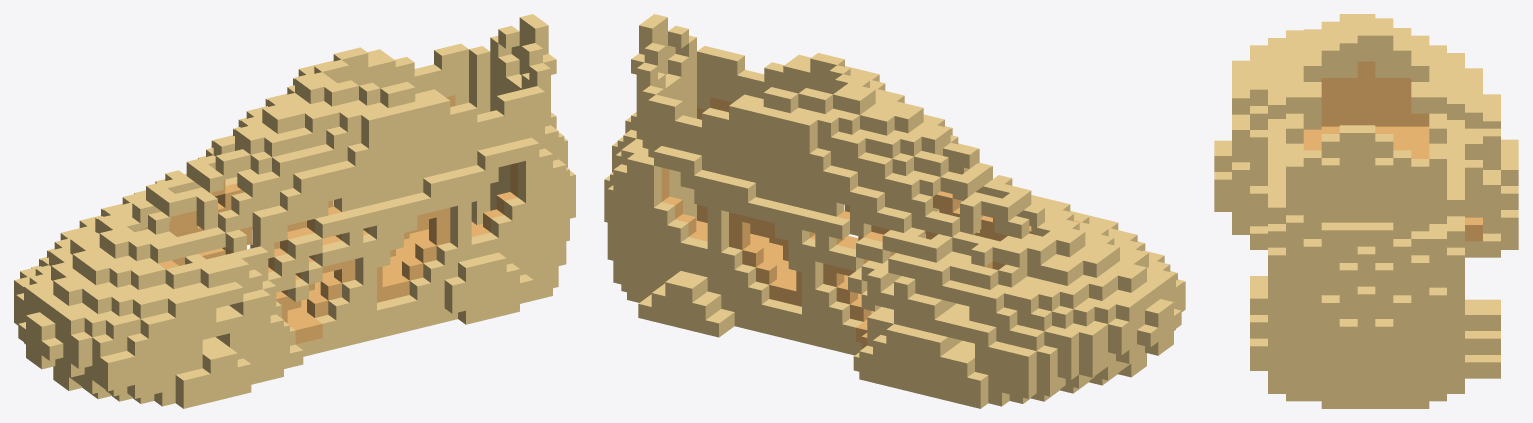
The model's file is Stone Salt.fbx.
3 renders of one model, left to right at view 1: azimuth 30°, elevation 25°; view 2: azimuth 150°, elevation 25°; view 3: azimuth 270°, elevation 25°, orthographic. The views are drawn at different scales.
Visible parts, largest first — view 1: Untitled; view 2: Untitled; view 3: Untitled.
Part boxes in pixels (bbox=[...]): Untitled: bbox=[14, 14, 575, 408]; Untitled: bbox=[604, 14, 1185, 408]; Untitled: bbox=[1214, 14, 1518, 408].
Size of the model in its own units: 400 by 170 by 170.
